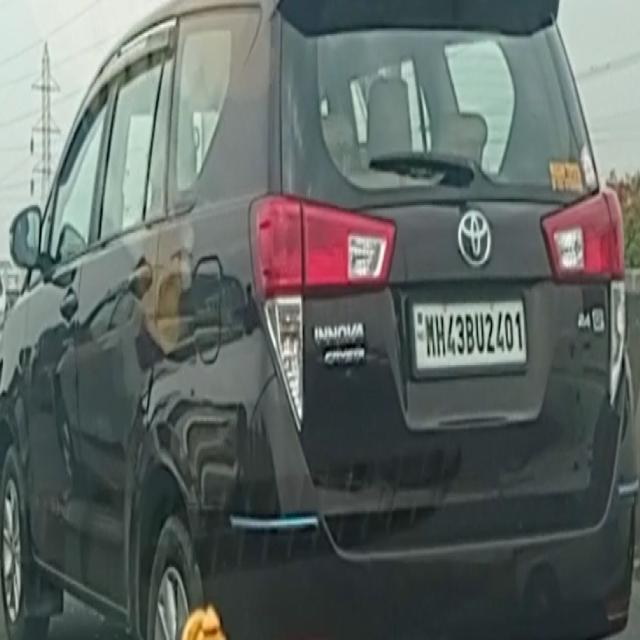number_plate: (410, 306, 530, 368)
